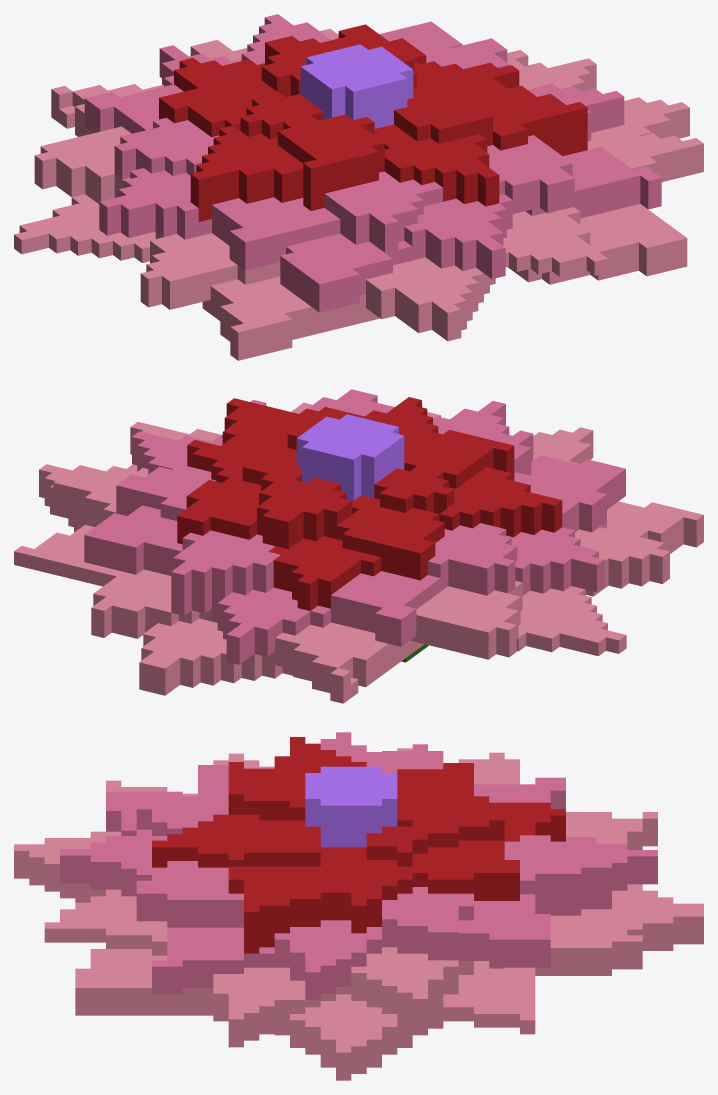
The model's file is platonic_flower.glb.
The picture shows the model from 3 angles, top to bottom: view 1: azimuth 30°, elevation 25°; view 2: azimuth 150°, elevation 25°; view 3: azimuth 270°, elevation 25°; orthographic projection. The views are drawn at different scales.
Parts seen in each view (by area): view 1: platonic_flower:compound; view 2: platonic_flower:compound; view 3: platonic_flower:compound.
Boxes of the visible parts, left/top/right/bottom form: platonic_flower:compound: left=14, top=14, right=703, bottom=360; platonic_flower:compound: left=14, top=389, right=703, bottom=703; platonic_flower:compound: left=14, top=732, right=703, bottom=1080.
Size of the model in its own units: 0.094 by 0.032 by 0.09.
